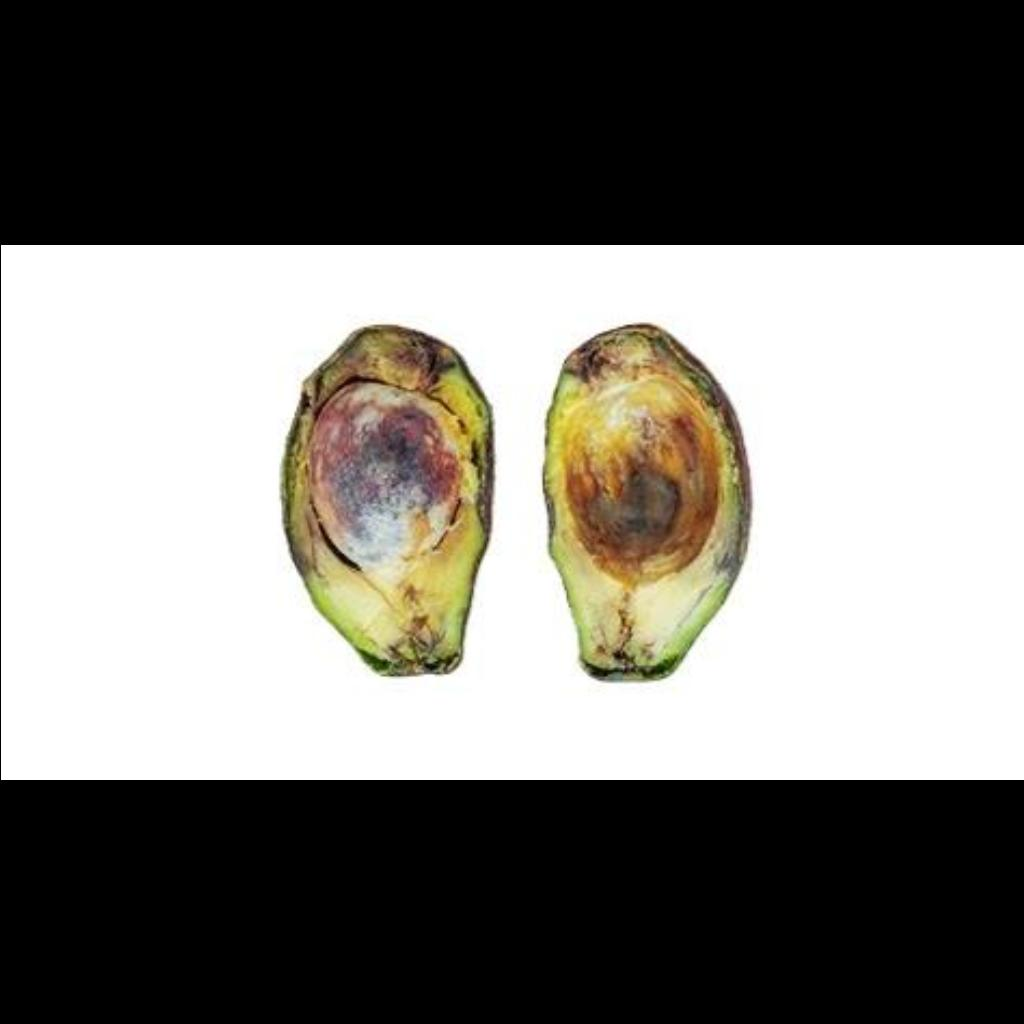Anthracnose: (262, 318, 510, 672), (542, 320, 760, 598)
